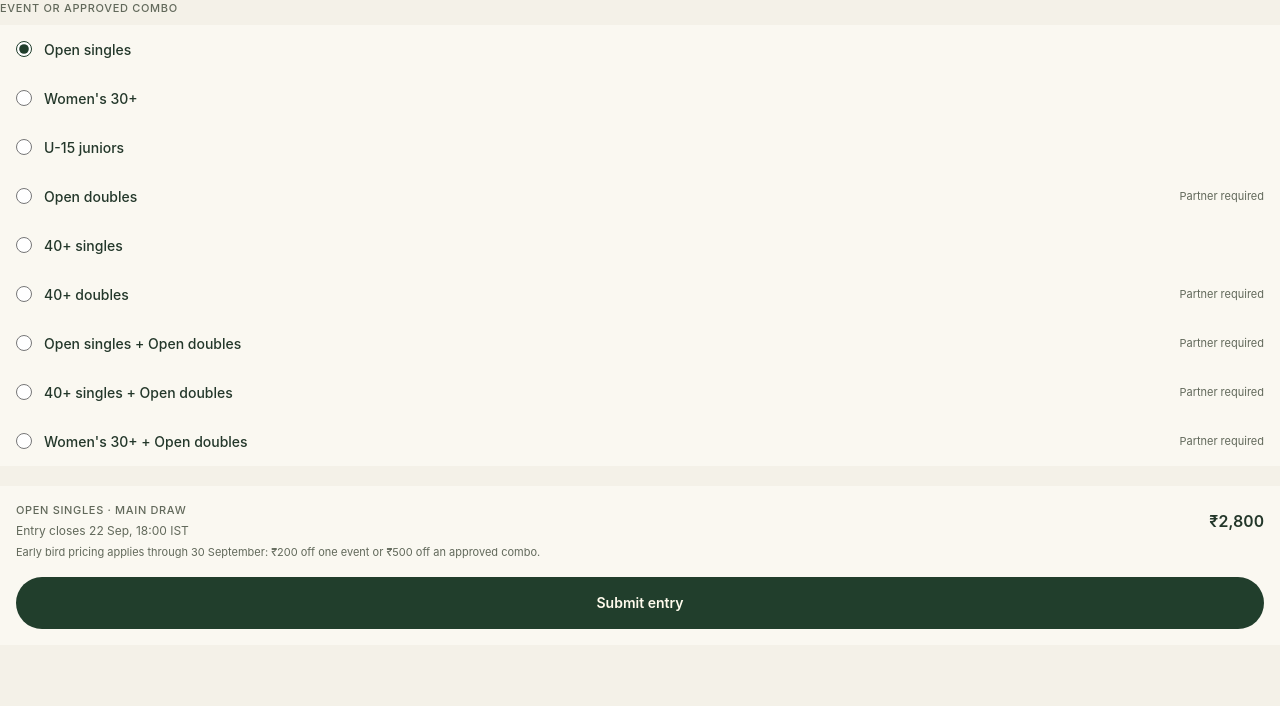
Test: EntryForm › shows the team fee for doubles
The image size is (1280, 706).
Click the radio button labelled "Open doubles" at (24,196), box [16,188,32,204]
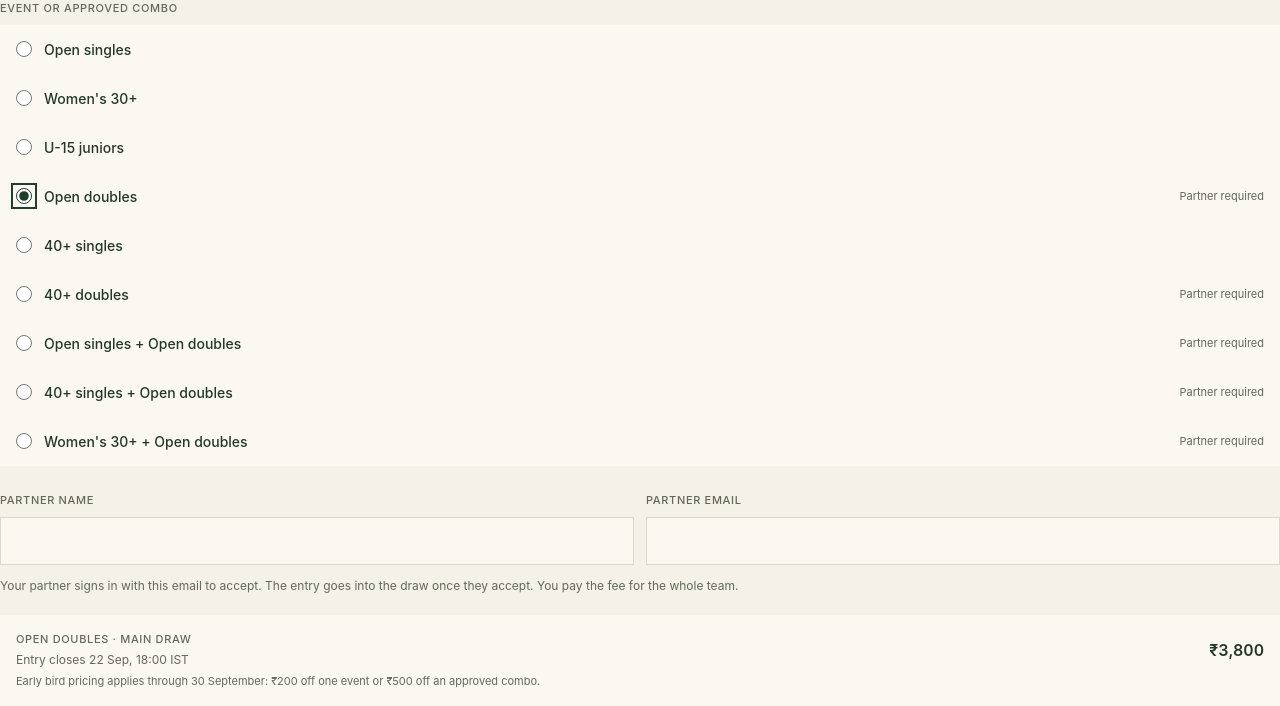
expect the text "₹3,800" is shown: met, box [1209,638,1264,662]
expect the text "You pay the fee for the whole team." is shown: met, box [0,578,738,592]
